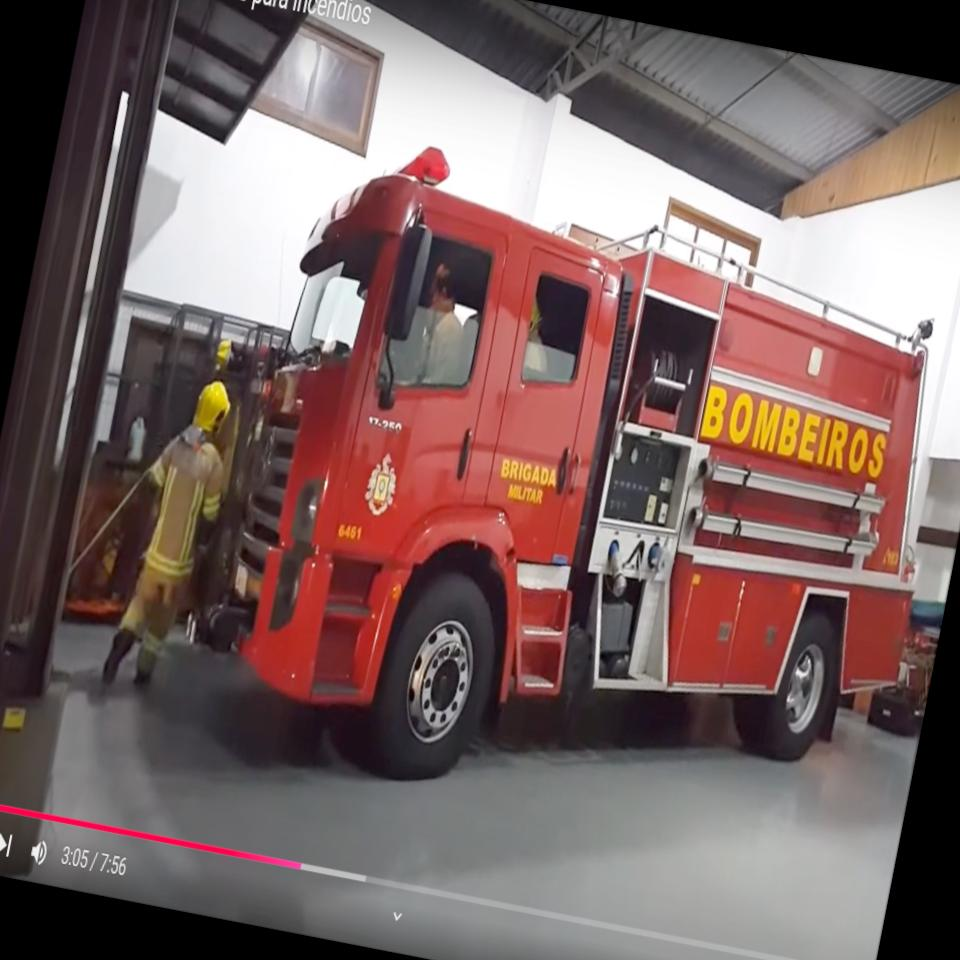viatura: (190, 114, 960, 871)
